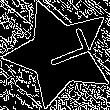L_W: (29, 30, 90, 78)
